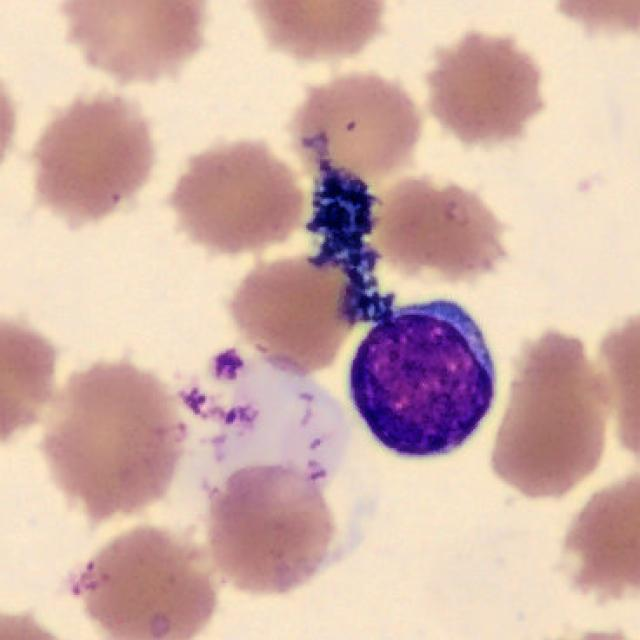Linfocito: (344, 303, 496, 457)
